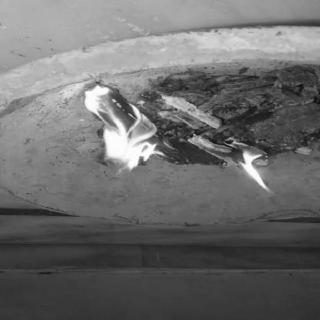Fire: (78, 83, 178, 183), (224, 143, 284, 201)
